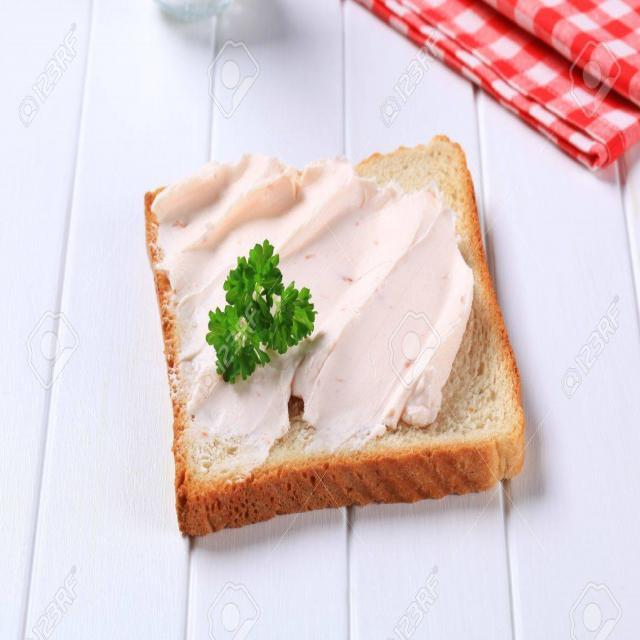Spread: (145, 155, 475, 447)
